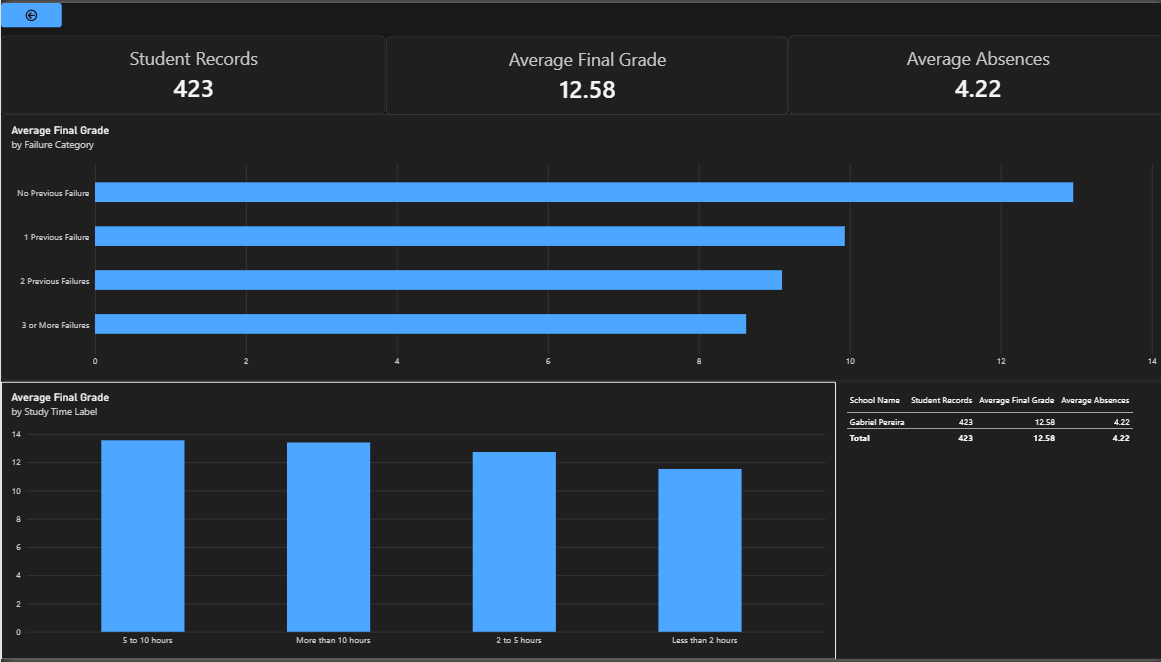

The dashboard page shown, as its layout file describes it:
{"tool":"powerbi","page":{"name":"School Detail","canvas":[1920,1080],"ordinal":1},"visuals":[{"type":"actionButton","box":[0,0,100,40],"z":0},{"type":"cardVisual","fields":{"Data":["student-por.Student Records"]},"box":[0,53.5,634,129.7],"z":1},{"type":"cardVisual","fields":{"Data":["student-por.Average Final Grade"]},"box":[634,55.6,662.8,129.7],"z":2},{"type":"cardVisual","fields":{"Data":["student-por.Average Absences"]},"box":[1296.7,53.5,623.7,129.7],"z":3},{"type":"clusteredColumnChart","fields":{"Category":["student-por.Study Time Label"],"Y":["student-por.Average Final Grade"]},"box":[0,623.7,1375,456.9],"z":4},{"type":"clusteredBarChart","fields":{"Category":["student-por.Failure Category"],"Y":["student-por.Average Final Grade"]},"box":[0,183.2,1920.4,438.4],"z":5},{"type":"tableEx","fields":{"Values":["student-por.School Name","student-por.Student Records","student-por.Average Final Grade","student-por.Average Absences"]},"box":[1375,623.7,545.5,456.9],"z":6}]}

Visuals, with their boxes in screenshot pixels (x1, y1, x2, y2), scaled from the page's 1920x1080 canvas onto the 1161x662 screenshot:
actionButton: [0, 0, 60, 25]
cardVisual - student-por.Student Records: [0, 33, 383, 112]
cardVisual - student-por.Average Final Grade: [383, 34, 784, 114]
cardVisual - student-por.Average Absences: [784, 33, 1160, 112]
clusteredColumnChart - student-por.Study Time Label x student-por.Average Final Grade: [0, 382, 831, 661]
clusteredBarChart - student-por.Failure Category x student-por.Average Final Grade: [0, 112, 1160, 381]
tableEx - student-por.School Name x student-por.Student Records: [831, 382, 1160, 661]
